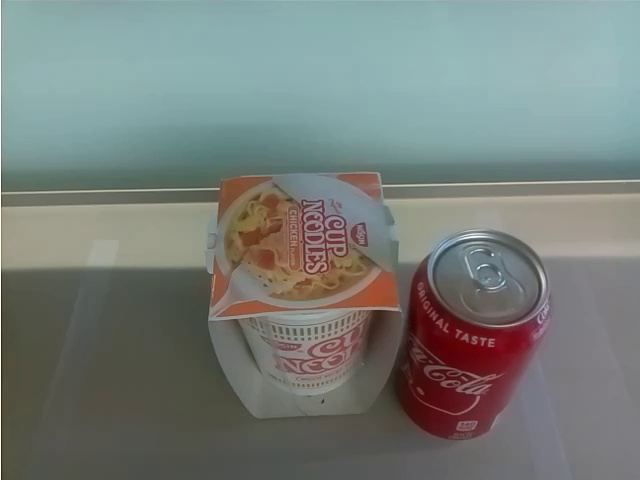cocacola: (405, 231, 552, 443)
noodles: (206, 174, 403, 423)
